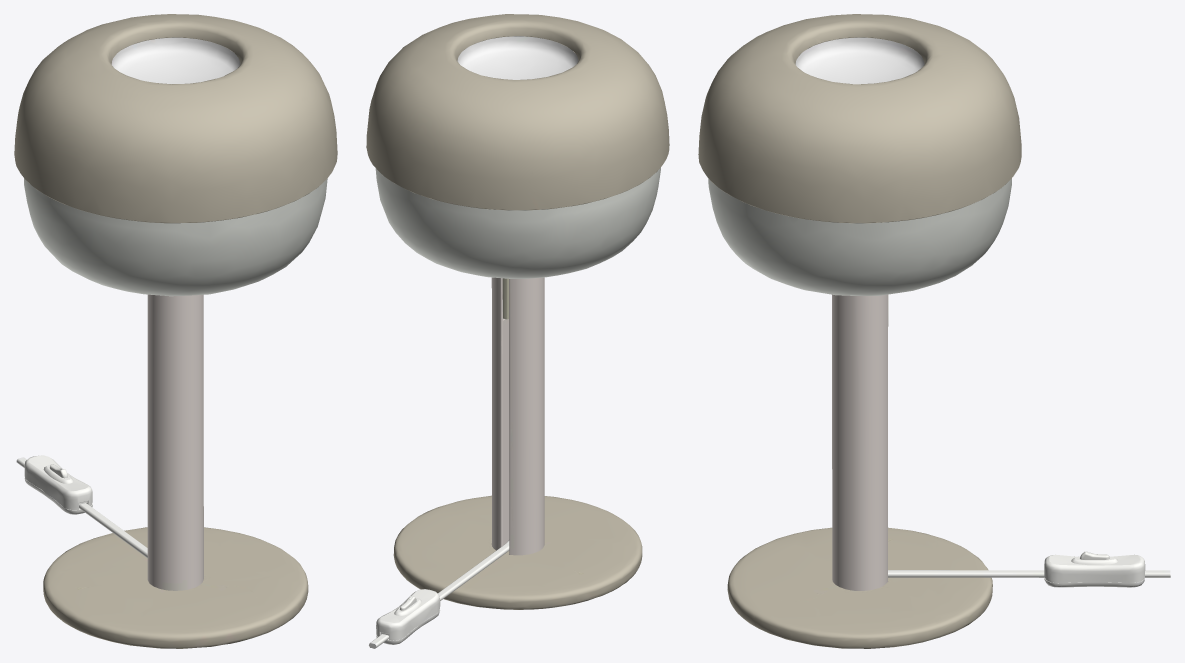
Rendered from blasverk_lampa_stoowa_70520926.glb.
3 renders of one model, left to right at view 1: azimuth 30°, elevation 25°; view 2: azimuth 150°, elevation 25°; view 3: azimuth 270°, elevation 25°, orthographic. The views are drawn at different scales.
Visible parts, largest first — view 1: blasverk_lampa_stoowa_70520926; view 2: blasverk_lampa_stoowa_70520926; view 3: blasverk_lampa_stoowa_70520926.
Part boxes in pixels (left/top/right/bottom): blasverk_lampa_stoowa_70520926: left=14, top=14, right=337, bottom=648; blasverk_lampa_stoowa_70520926: left=366, top=14, right=669, bottom=648; blasverk_lampa_stoowa_70520926: left=698, top=14, right=1170, bottom=648.
Size of the model in its own units: 0.1948 by 0.3595 by 0.2843.
Materials: 1 (1 with a texture image).
